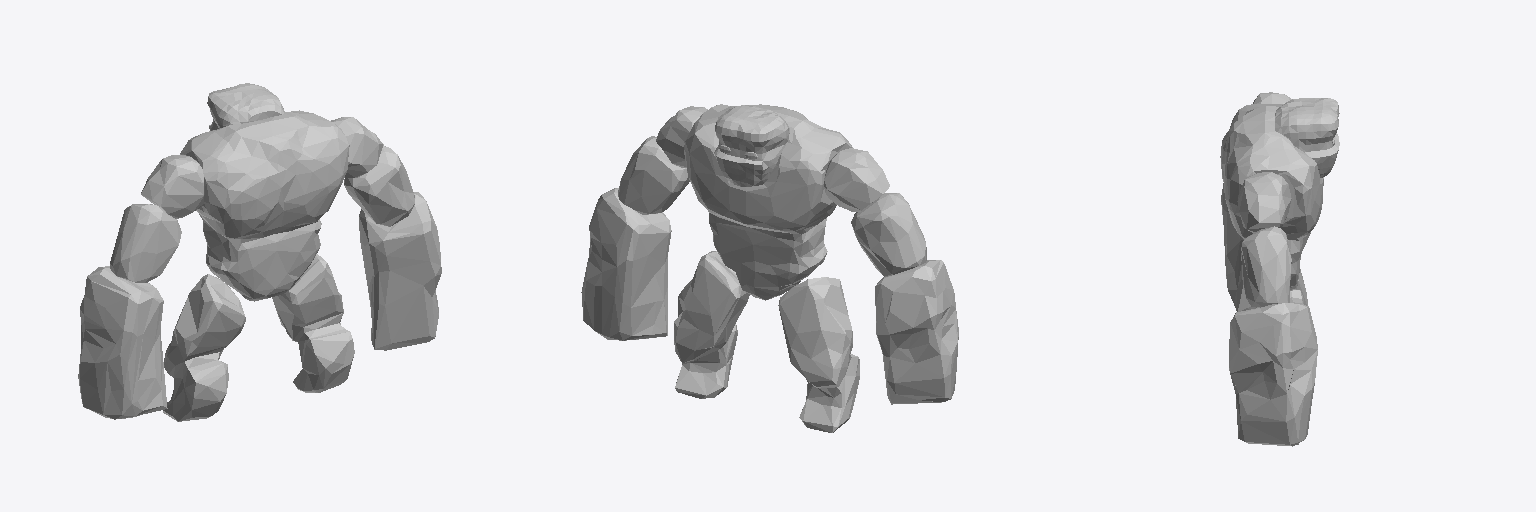
The model's file is big_golem.obj.
3 renders of one model, left to right at view 1: azimuth 30°, elevation 25°; view 2: azimuth 150°, elevation 25°; view 3: azimuth 270°, elevation 25°, orthographic.
Parts seen in each view (by area): view 1: hands&leg.001, torso.001, head.001; view 2: hands&leg.001, torso.001, head.001; view 3: hands&leg.001, torso.001, head.001.
Part boxes in pixels (left/top/right/bottom): hands&leg.001: left=78, top=117, right=441, bottom=421; torso.001: left=180, top=110, right=349, bottom=301; head.001: left=207, top=83, right=284, bottom=130; hands&leg.001: left=581, top=106, right=958, bottom=432; torso.001: left=684, top=104, right=852, bottom=300; head.001: left=714, top=105, right=789, bottom=186; hands&leg.001: left=1221, top=92, right=1317, bottom=446; torso.001: left=1220, top=104, right=1323, bottom=289; head.001: left=1275, top=98, right=1339, bottom=177.
Bounding box in the file's own units: 11.9 × 9.58 × 3.41.